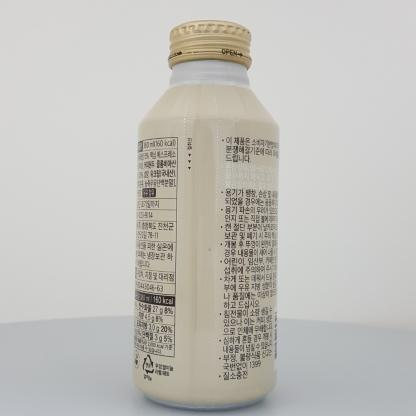-------TOP-----: (133, 20, 280, 410)
